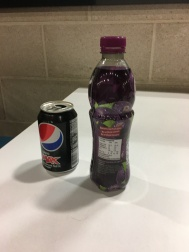bottle_purple: (79, 24, 142, 204)
can_black: (29, 98, 83, 176)
